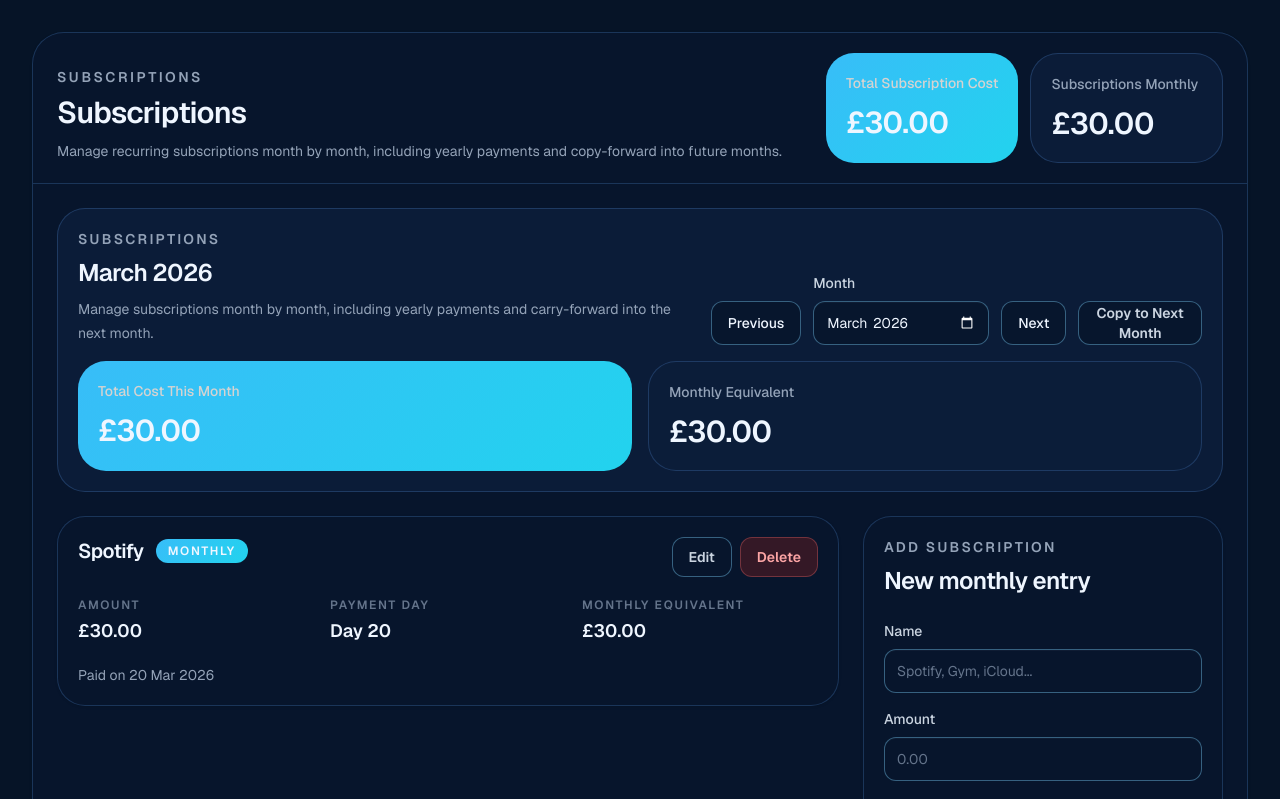
Test case: [Component] fixed costs view › should delete a subscription when the delete action is used
The image size is (1280, 799).
Click the button "Delete": (779, 557) [740,537,818,577]
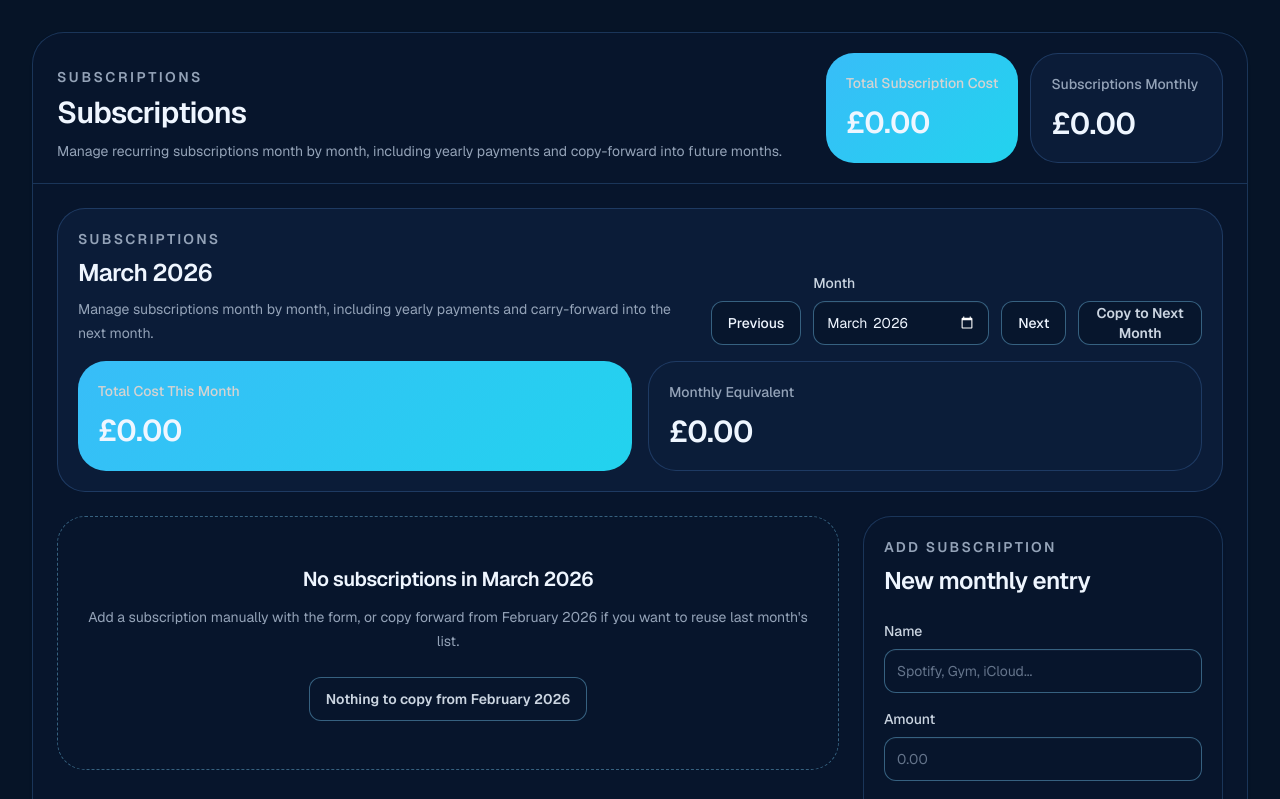
expect the heading "No subscriptions in March 2026" is shown: met, box [303,566,593,592]
